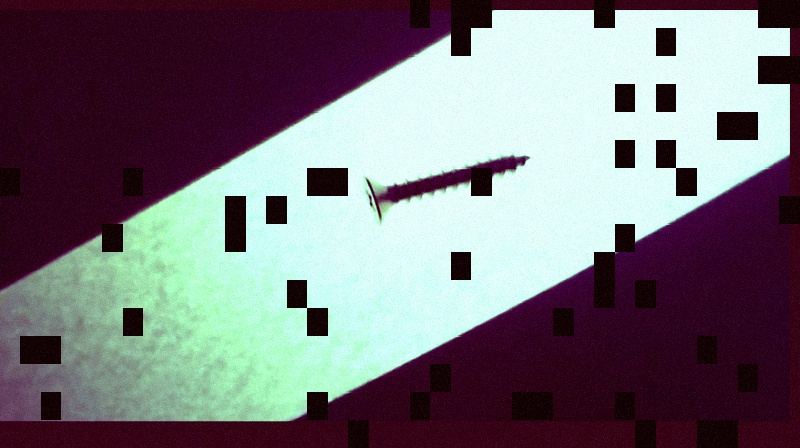S001: (356, 147, 533, 225)
